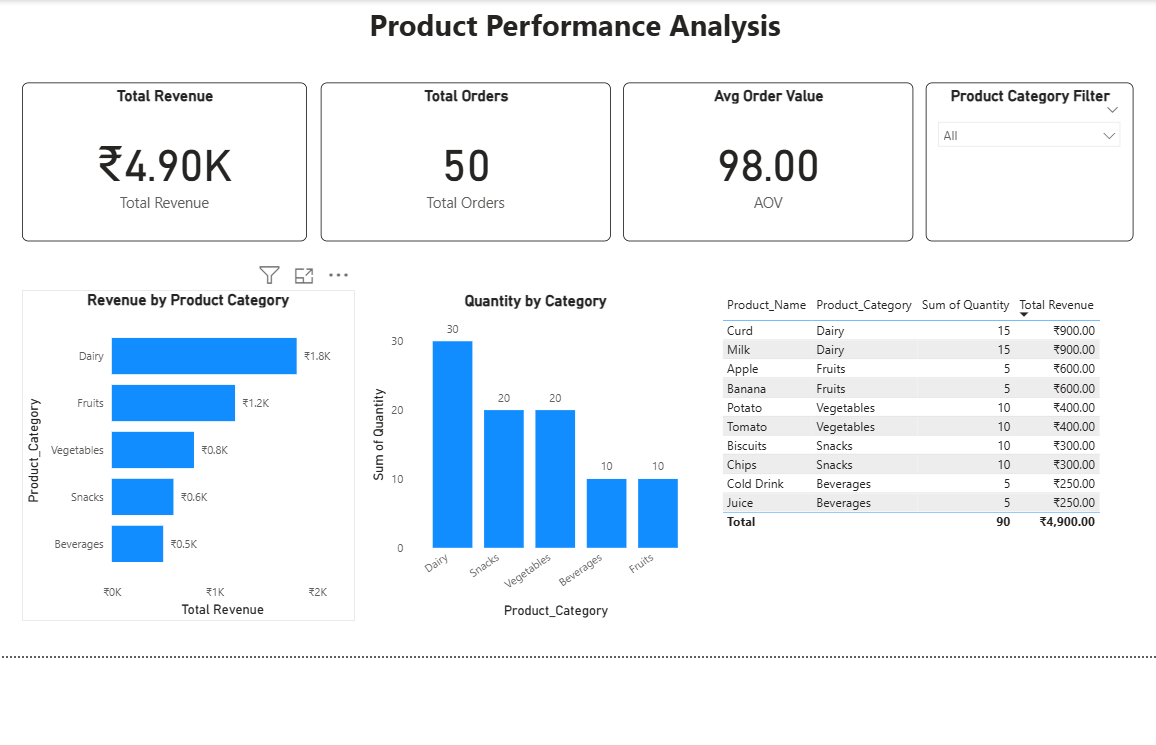

The dashboard page shown, as its layout file describes it:
{"tool":"powerbi","page":{"name":"Product Analysis","canvas":[1280,720],"ordinal":1},"visuals":[{"type":"textbox","box":[0,0,1280.3,71.4],"z":0},{"type":"card","title":"Total Revenue","fields":{"Values":["Blinkit_Sales_Data.Total Revenue"]},"box":[32.9,90.6,312.9,174.3],"z":1000},{"type":"card","title":"Total Orders","fields":{"Values":["Blinkit_Sales_Data.Total Orders"]},"box":[360.9,90.6,318.4,174.3],"z":2000},{"type":"card","title":"Avg Order Value","fields":{"Values":["Blinkit_Sales_Data.AOV"]},"box":[693,90.6,318.4,174.3],"z":3000},{"type":"clusteredBarChart","title":"Revenue by Product Category","fields":{"Category":["Blinkit_Sales_Data.Product_Category"],"Y":["Blinkit_Sales_Data.Total Revenue"]},"box":[32.9,318.4,365,363.6],"z":4000},{"type":"clusteredColumnChart","title":"Quantity by Category","fields":{"Category":["Blinkit_Sales_Data.Product_Category"],"Y":["Sum(Blinkit_Sales_Data.Quantity)"]},"box":[411.7,319.7,370.5,363.6],"z":5000},{"type":"tableEx","fields":{"Values":["Blinkit_Sales_Data.Product_Name","Blinkit_Sales_Data.Product_Category","Sum(Blinkit_Sales_Data.Quantity)","Blinkit_Sales_Data.Total Revenue"]},"box":[795.9,318.4,456.9,363.6],"z":6000},{"type":"slicer","title":"Product Category Filter","fields":{"Values":["Blinkit_Sales_Data.Product_Category","Blinkit_Sales_Data.City","Blinkit_Sales_Data.Order_Date","Dim_Date.Date"]},"box":[1025,90.6,227.8,174.3],"z":7000}]}

Visuals, with their boxes on the page's 1280x720 design canvas (x1, y1, x2, y2). These are canvas units, not pixel positions in the 1156x745 screenshot, which may show the page scaled, cropped or inside an application window:
textbox: 0:0:1280:71
"Total Revenue" card: 33:91:346:265
"Total Orders" card: 361:91:679:265
"Avg Order Value" card: 693:91:1011:265
"Revenue by Product Category" clusteredBarChart: 33:318:398:682
"Quantity by Category" clusteredColumnChart: 412:320:782:683
tableEx - Blinkit_Sales_Data.Product_Name x Blinkit_Sales_Data.Product_Category: 796:318:1253:682
"Product Category Filter" slicer: 1025:91:1253:265
